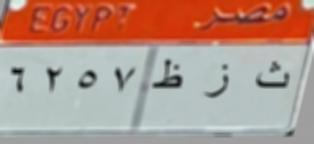2: (41, 63, 66, 98)
5: (74, 63, 102, 95)
6: (6, 61, 30, 97)
7: (110, 61, 144, 95)
Thaa: (151, 54, 188, 98)
thaa: (252, 56, 296, 95)
zay: (200, 60, 236, 103)
